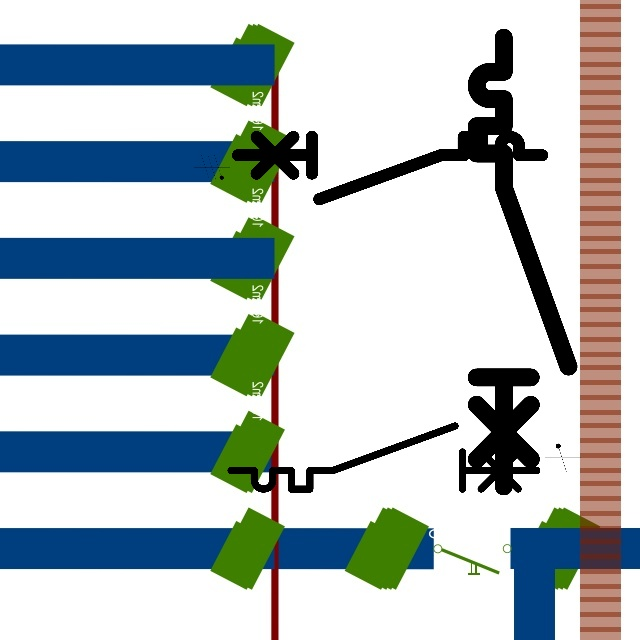interruptor_termomagnetico: (465, 26, 580, 498), (223, 418, 545, 497), (230, 129, 550, 207)
